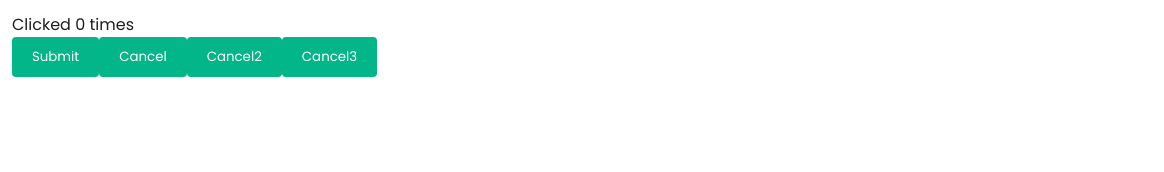
Test: Button component › increments the number when "Cancel3" is clicked
Check: the text "Clicked 0 times" is shown, box [12,12,1163,37]
Click the button "Cancel3".
click(329, 57)  # box [282,37,377,77]
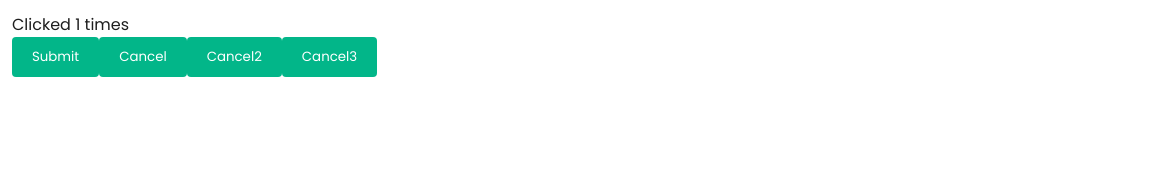
Check: the text "Clicked 1 times" is shown, box [12,12,1163,37]
Click the button "Cancel3".
click(329, 57)  # box [282,37,377,77]
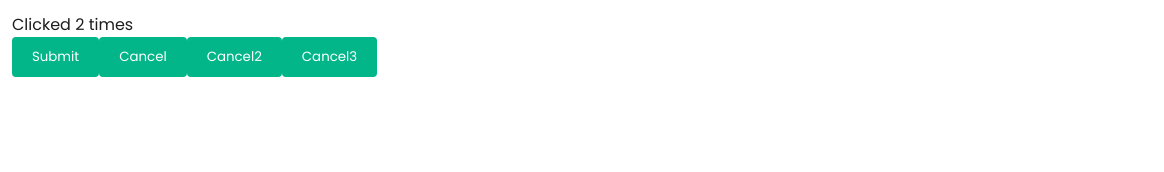
Check: the text "Clicked 2 times" is shown, box [12,12,1163,37]
